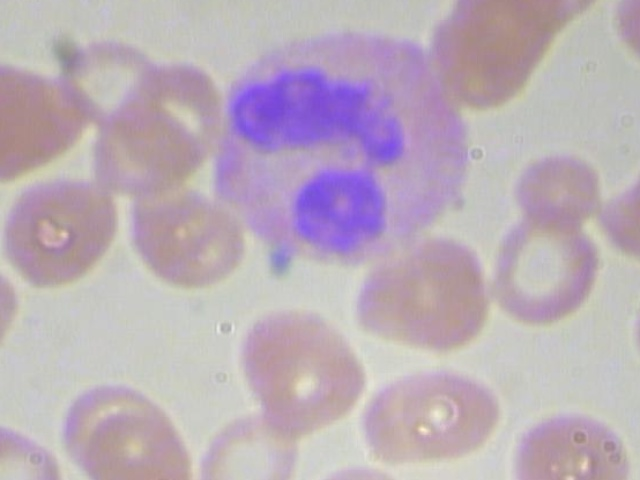RBC: (350, 232, 500, 354), (358, 357, 508, 473), (0, 161, 123, 291), (233, 312, 370, 428), (128, 176, 250, 292), (486, 210, 601, 328), (509, 406, 636, 480), (193, 409, 304, 480), (511, 145, 605, 228), (610, 0, 640, 81), (635, 270, 640, 386)
WBC: (211, 22, 480, 268)
